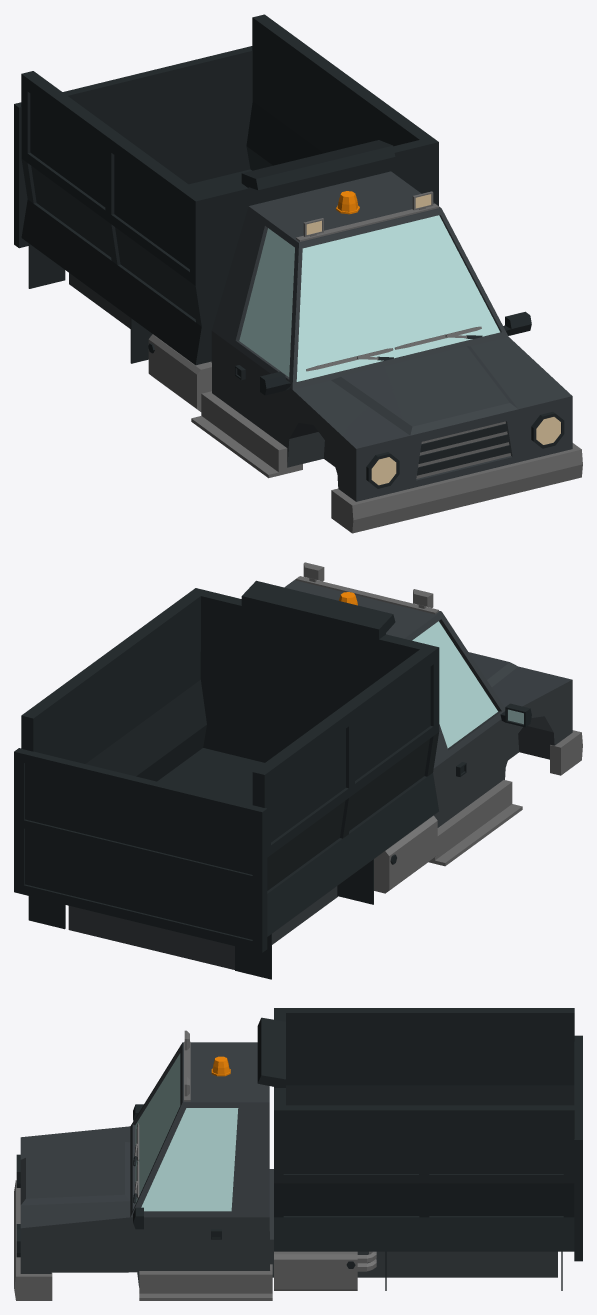
Rendered from Car_18.fbx.
3 renders of one model, top to bottom at view 1: azimuth 30°, elevation 25°; view 2: azimuth 150°, elevation 25°; view 3: azimuth 270°, elevation 25°, orthographic. The views are drawn at different scales.
Parts seen in each view (by area): view 1: Car_18; view 2: Car_18; view 3: Car_18.
Boxes of the visible parts, box(x1,y1,x2,y2) form: Car_18: box(14, 14, 582, 533); Car_18: box(14, 562, 582, 979); Car_18: box(14, 1008, 582, 1300).
Bounding box in the file's own units: 240 × 206 × 516.
